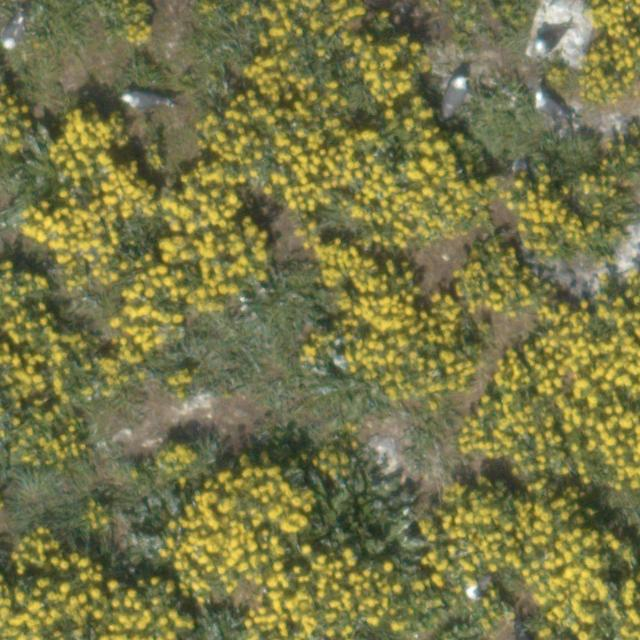umineko: (444, 77, 466, 110), (536, 94, 564, 116), (4, 18, 24, 46), (125, 93, 161, 108), (467, 578, 492, 598), (535, 35, 561, 53)
